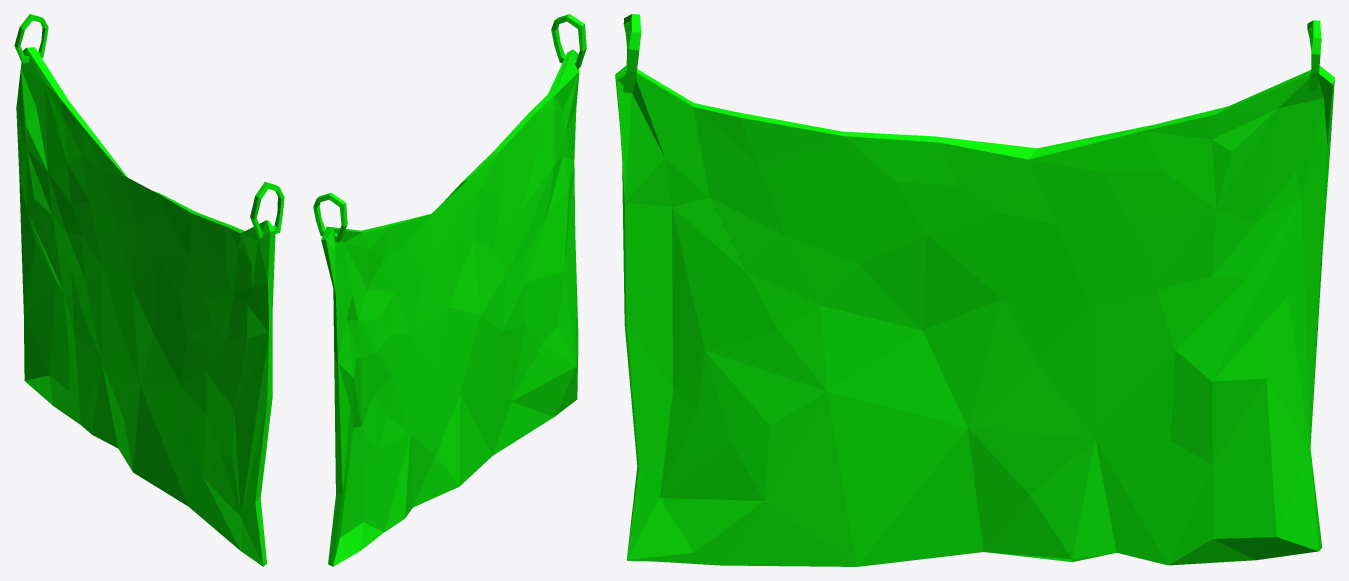
Rendered from SM_Market_Stall_Cloth_Wall_Short_Plain.fbx.
3 renders of one model, left to right at view 1: azimuth 30°, elevation 25°; view 2: azimuth 150°, elevation 25°; view 3: azimuth 270°, elevation 25°, orthographic. The views are drawn at different scales.
Parts seen in each view (by area): view 1: market-stall-cloth-wall-short-plain; view 2: market-stall-cloth-wall-short-plain; view 3: market-stall-cloth-wall-short-plain.
Boxes of the visible parts, bbox=[...] form: market-stall-cloth-wall-short-plain: bbox=[14, 14, 284, 566]; market-stall-cloth-wall-short-plain: bbox=[313, 14, 586, 566]; market-stall-cloth-wall-short-plain: bbox=[615, 14, 1334, 566].
Size of the model in its own units: 0.2087 by 2.33 by 2.76.
